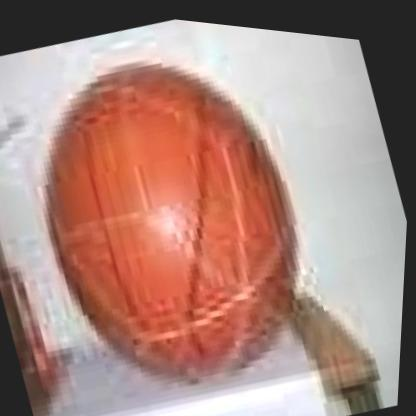basketball: (0, 5, 353, 416)
